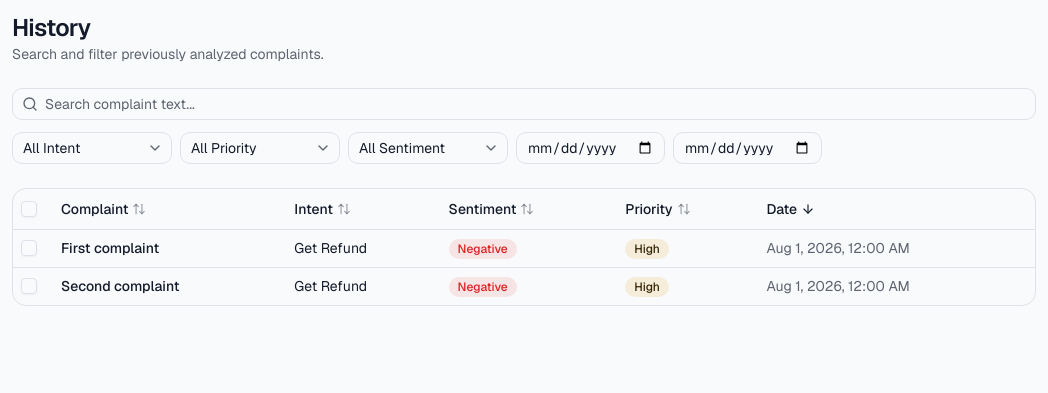
HistoryView delete flow › select-all checkbox selects every row on the page
This screenshot has width=1048, height=393.
Expected: the text "First complaint" is shown, [53,229,286,267]
Click the checkbox named "select all complaints": (29, 209) [21,201,37,217]
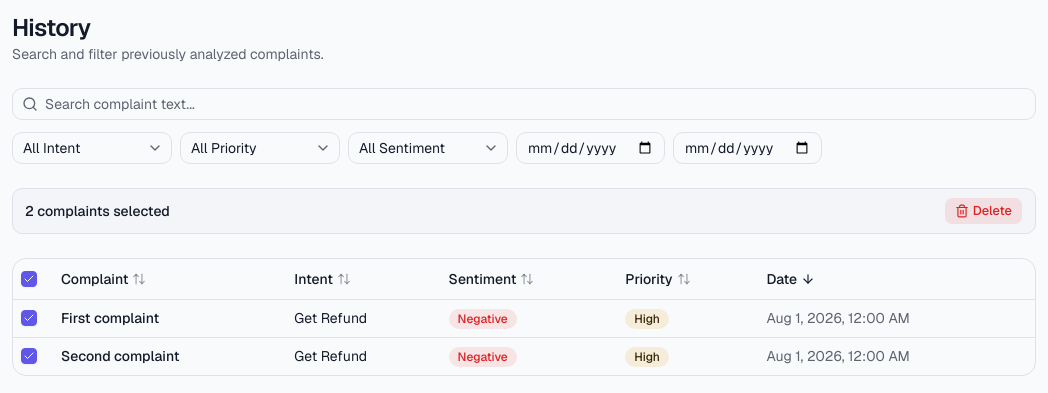
Expected: the text "2 complaints selected" is shown, [25,201,170,221]
